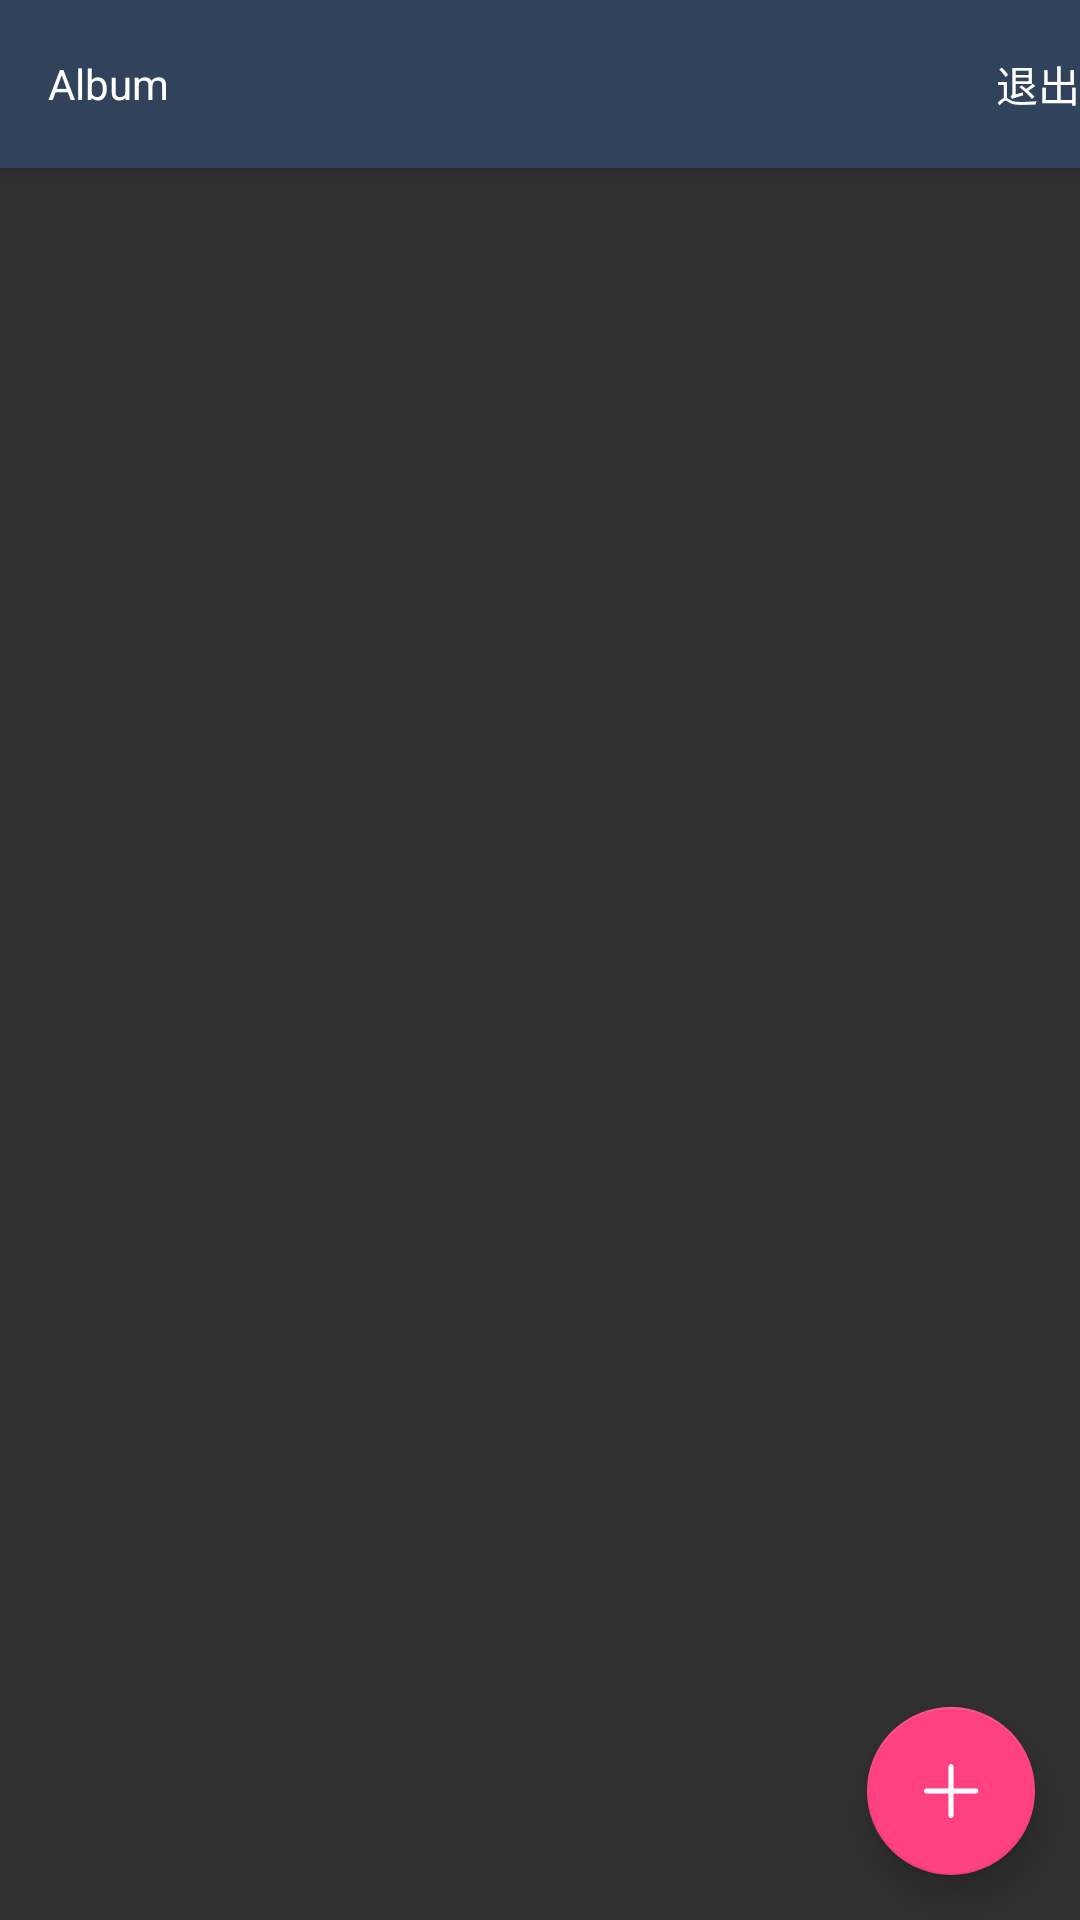

Icon click points for this 1080w x 1920h phone screenshot, format point (x, y):
plus: point (951, 1791)
